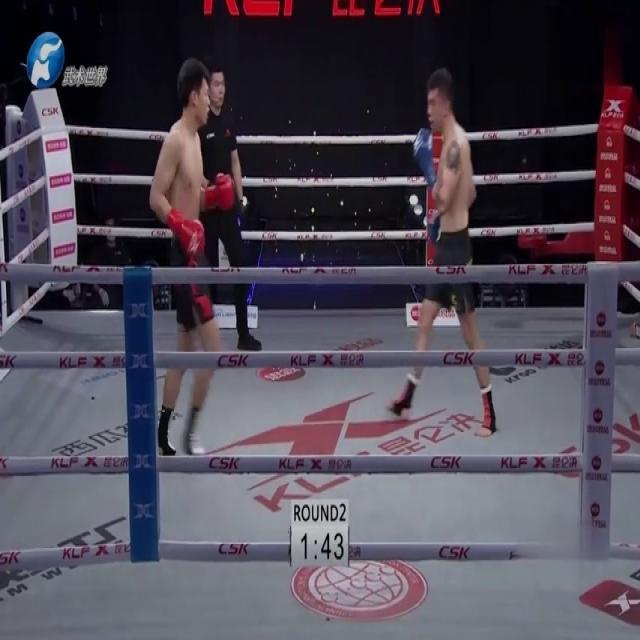fight: (146, 49, 498, 462)
non-fight: (181, 57, 257, 359)
